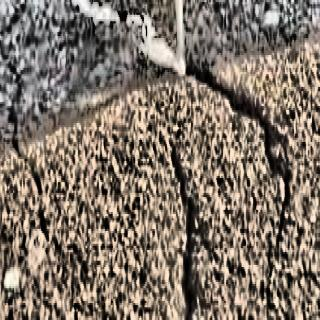crack: (73, 0, 292, 262), (0, 0, 86, 272), (169, 144, 198, 318)
